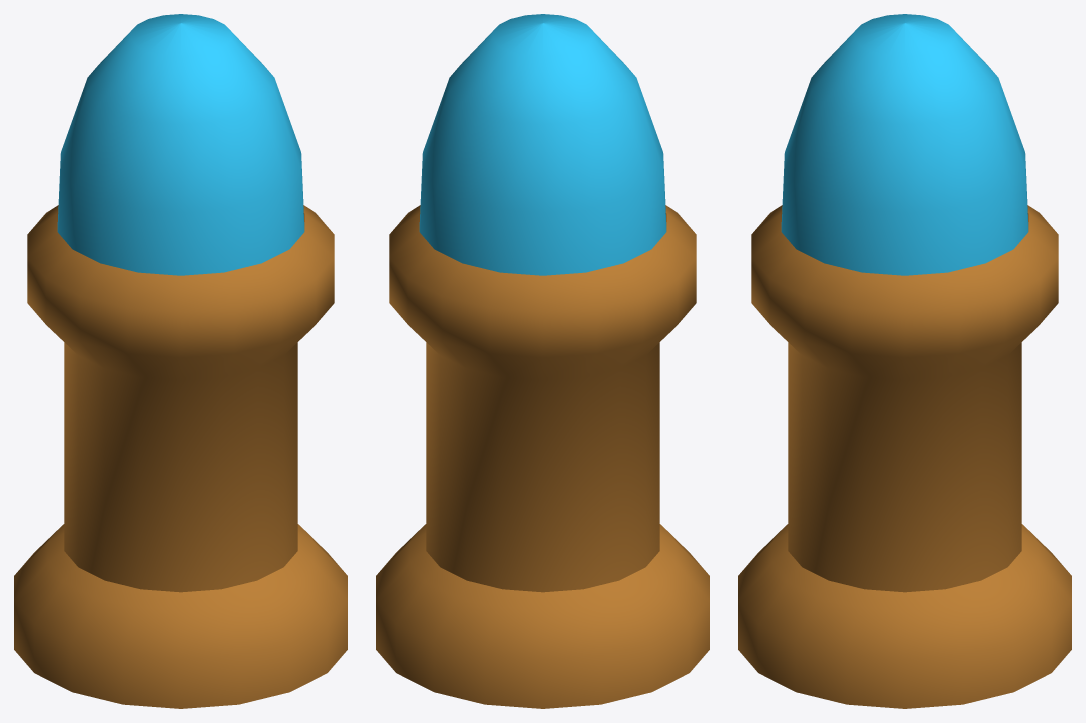
File: mech-tower.dae
3 views of the same model, side by side, from view 1: azimuth 30°, elevation 25°; view 2: azimuth 150°, elevation 25°; view 3: azimuth 270°, elevation 25° (orthographic).
Visible parts, largest first — view 1: accent, glow; view 2: accent, glow; view 3: accent, glow.
Part boxes in pixels (<box>): accent: <box>14,205,347,708</box>; glow: <box>57,14,304,275</box>; accent: <box>376,205,709,708</box>; glow: <box>419,14,666,275</box>; accent: <box>738,205,1071,708</box>; glow: <box>781,14,1028,275</box>.
Size of the model in its own units: 2 by 4 by 1.97.
